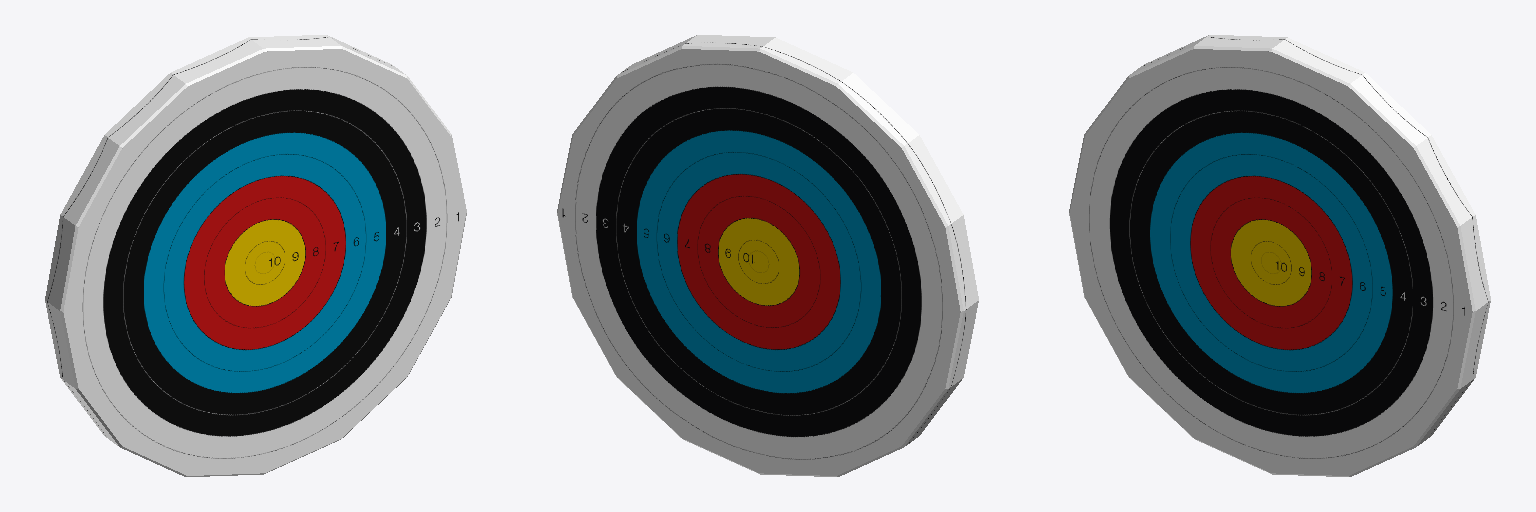
3 renders of one model, left to right at view 1: azimuth 30°, elevation 25°; view 2: azimuth 150°, elevation 25°; view 3: azimuth 330°, elevation 25°, orthographic.
Parts seen in each view (by area): view 1: target; view 2: target; view 3: target.
Part boxes in pixels (bbox=[...]): target: bbox=[45, 35, 466, 476]; target: bbox=[557, 35, 978, 476]; target: bbox=[1069, 35, 1490, 476].
Bounding box in the file's own units: 60 × 60 × 4.5.
Materials: 1 (1 with a texture image).